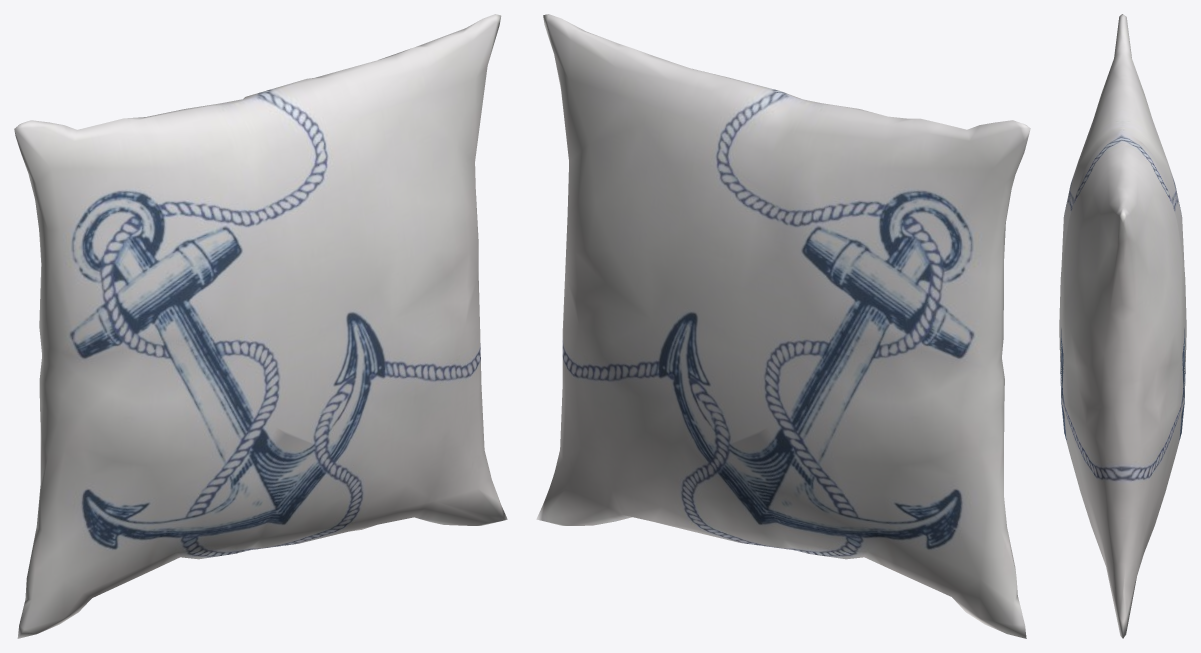
Rendered from pillow.dae.
The picture shows the model from 3 angles, left to right: view 1: azimuth 30°, elevation 25°; view 2: azimuth 150°, elevation 25°; view 3: azimuth 270°, elevation 25°; orthographic projection. The views are drawn at different scales.
Parts seen in each view (by area): view 1: Pillow-Rain_Anchor; view 2: Pillow-Rain_Anchor; view 3: Pillow-Rain_Anchor.
Boxes of the visible parts, box(x1,y1,x2,y2) form: Pillow-Rain_Anchor: box(14, 14, 507, 638); Pillow-Rain_Anchor: box(536, 14, 1030, 638); Pillow-Rain_Anchor: box(1059, 14, 1186, 638).
Size of the model in its own units: 23.39 by 6.29 by 23.33.
1 material, 1 textured.
